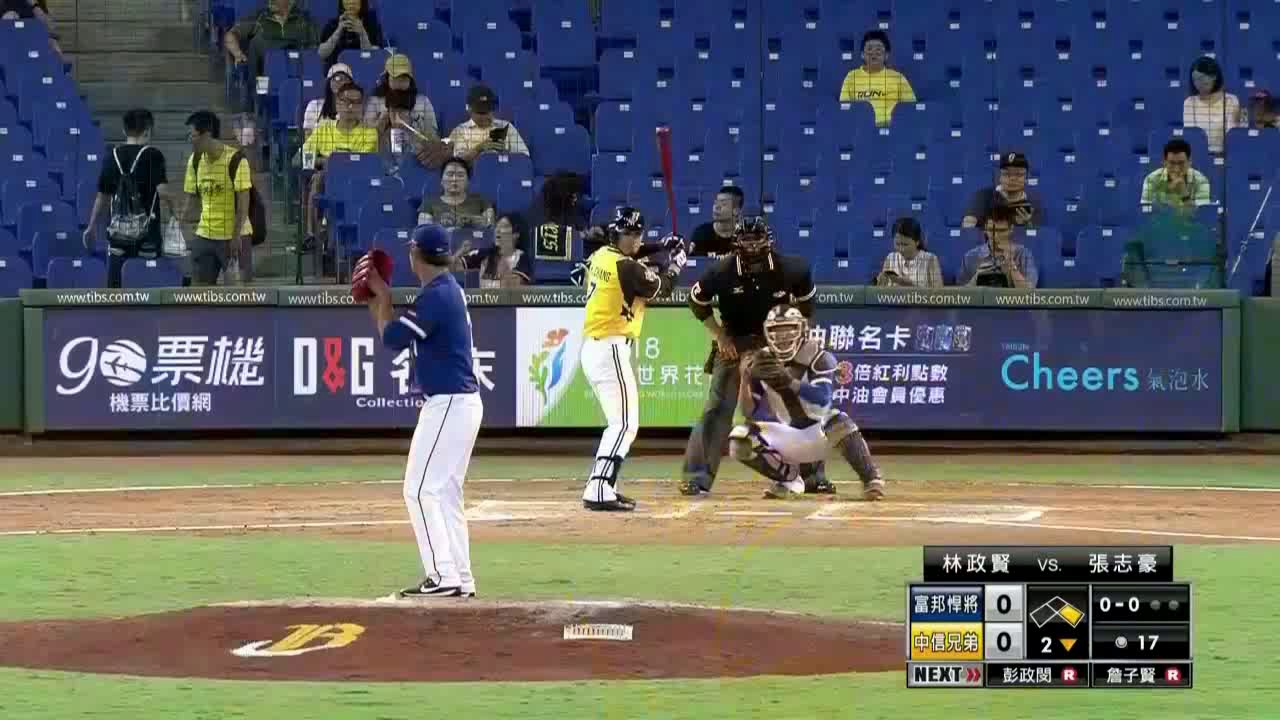base: (1026, 588, 1086, 631)
bat: (653, 122, 682, 237)
out: (1148, 588, 1185, 615)
score1: (987, 588, 1019, 618)
score2: (988, 624, 1020, 655)
session: (1027, 632, 1087, 658)
strikeball: (1094, 589, 1145, 622)
total: (1091, 626, 1187, 655)
